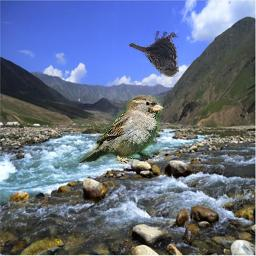Sparrow: (79, 96, 164, 165), (129, 31, 179, 77)
